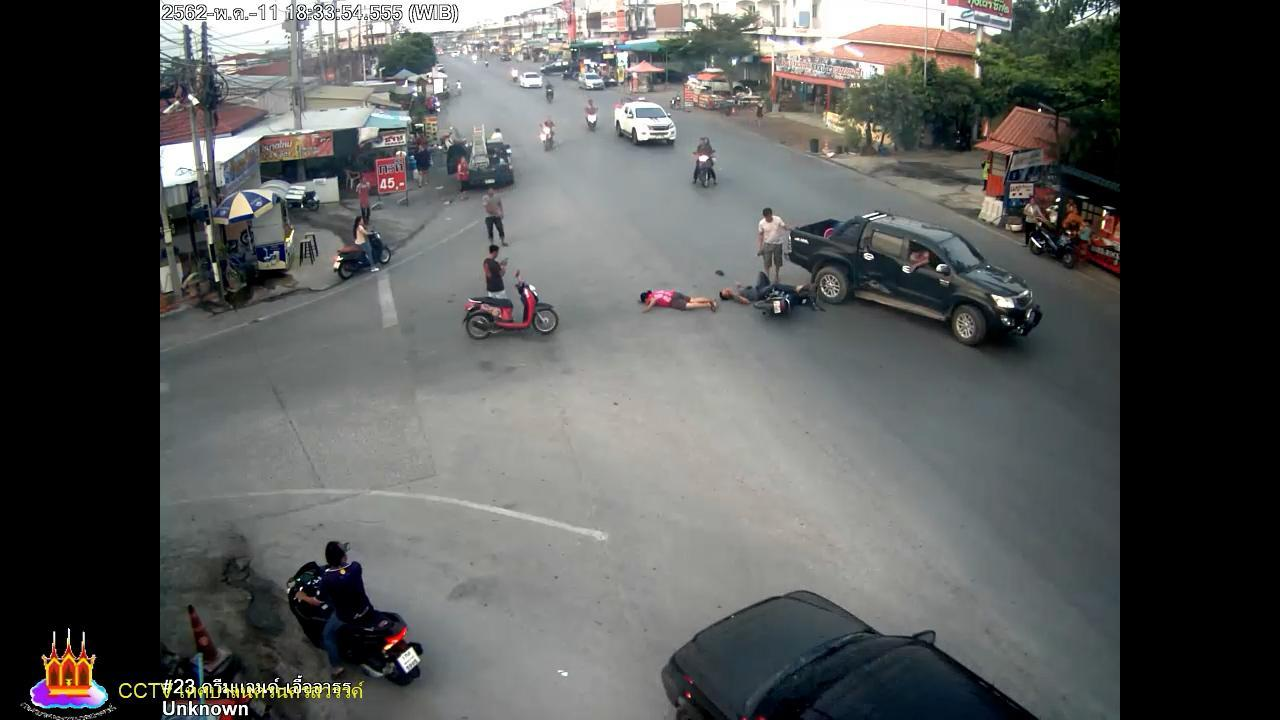accident: (639, 286, 722, 315), (718, 271, 781, 304)
